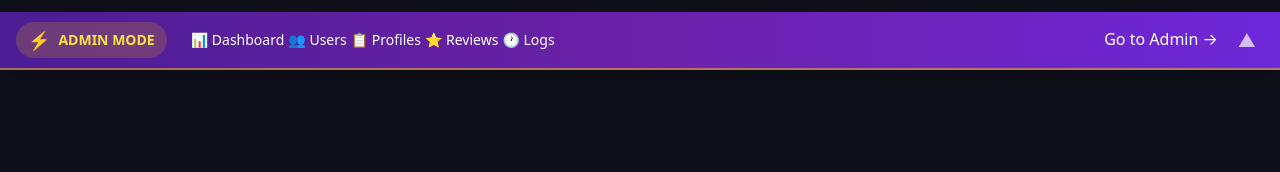
Test: AdminBar Component › can be minimized
Expected: the text "ADMIN MODE" is shown, top-left (58, 30), bottom-right (155, 50)
What coordinates should you click on to do the following:
click the button titled "minimize"
I would click on:
 (1247, 40)
Its box is top-left (1230, 26), bottom-right (1264, 54).
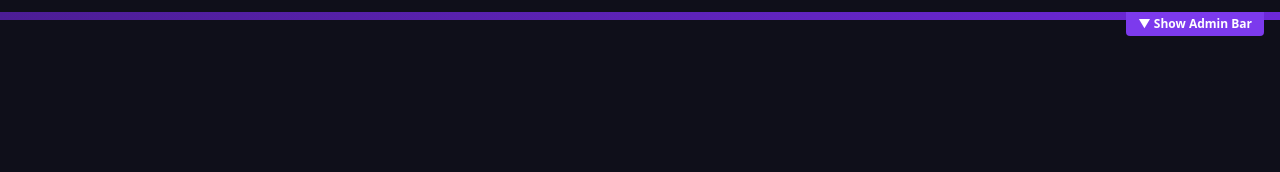
Result: the button "▼ Show Admin Bar" is shown at top-left (1126, 12), bottom-right (1264, 36)
